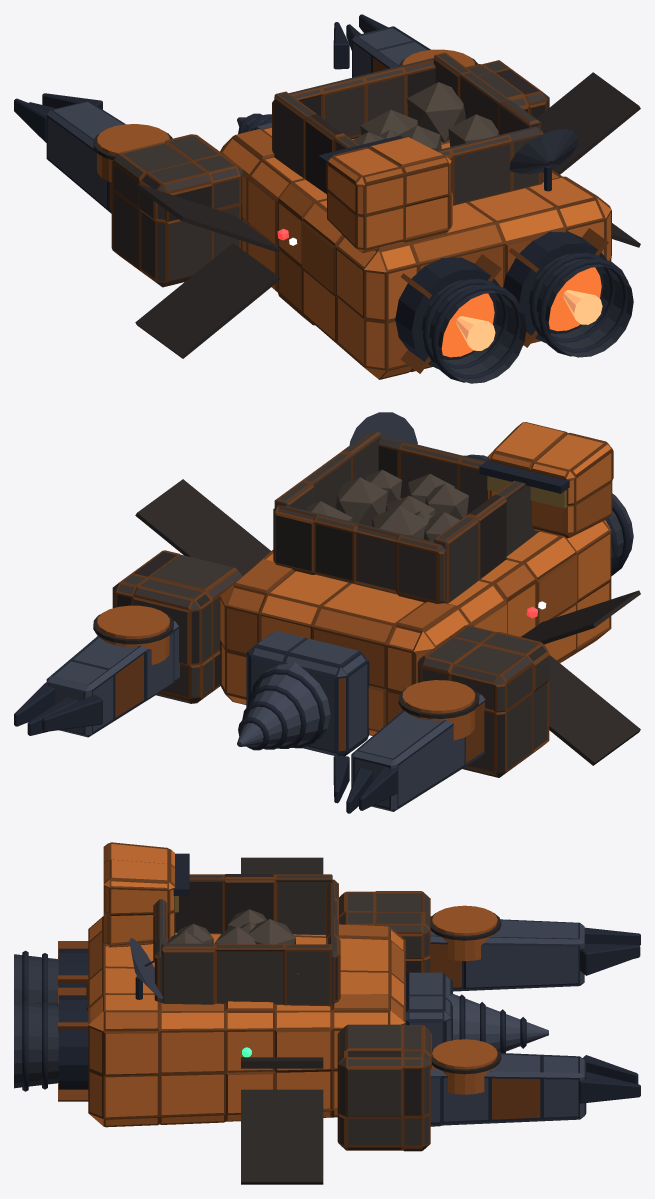
File: digger.glb
The picture shows the model from 3 angles, top to bottom: view 1: azimuth 30°, elevation 25°; view 2: azimuth 150°, elevation 25°; view 3: azimuth 270°, elevation 25°; orthographic projection. The views are drawn at different scales.
Visible parts, largest first — view 1: digger_mesh, radar_mesh; view 2: digger_mesh, radar_mesh; view 3: digger_mesh, radar_mesh.
Boxes of the visible parts, x1,y1,x2,y2 form: digger_mesh: (14,14,640,383); radar_mesh: (509,129,578,191); digger_mesh: (14,422,640,813); radar_mesh: (349,412,417,444); digger_mesh: (14,842,640,1184); radar_mesh: (129,938,163,999).
Bounding box in the file's own units: 7.44 × 3.34 × 9.8.
